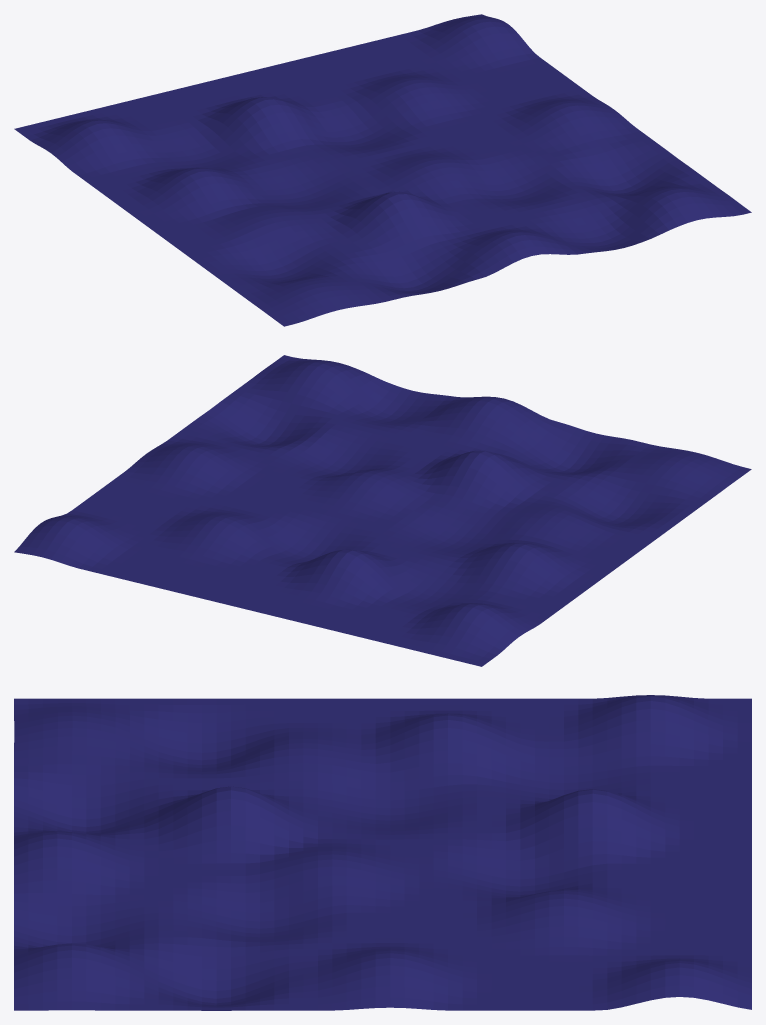
File: map1.glb
The picture shows the model from 3 angles, top to bottom: view 1: azimuth 30°, elevation 25°; view 2: azimuth 150°, elevation 25°; view 3: azimuth 270°, elevation 25°; orthographic projection. The views are drawn at different scales.
Parts seen in each view (by area): view 1: Plane.006; view 2: Plane.006; view 3: Plane.006.
Part boxes in pixels (box(x1,y1,x2,y2)): Plane.006: box(14, 14, 751, 326); Plane.006: box(14, 355, 751, 666); Plane.006: box(14, 695, 751, 1010).
Bounding box in the file's own units: 39.95 × 3.69 × 39.95.
